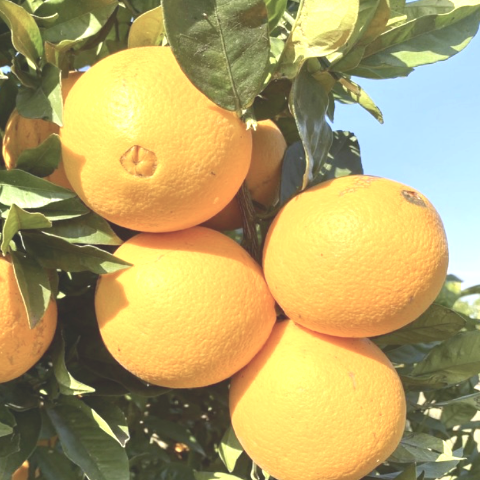orange: (52, 38, 274, 234), (202, 307, 429, 471), (79, 213, 281, 385), (263, 178, 470, 334)
